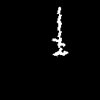double_crochet: (53, 7, 67, 55)
